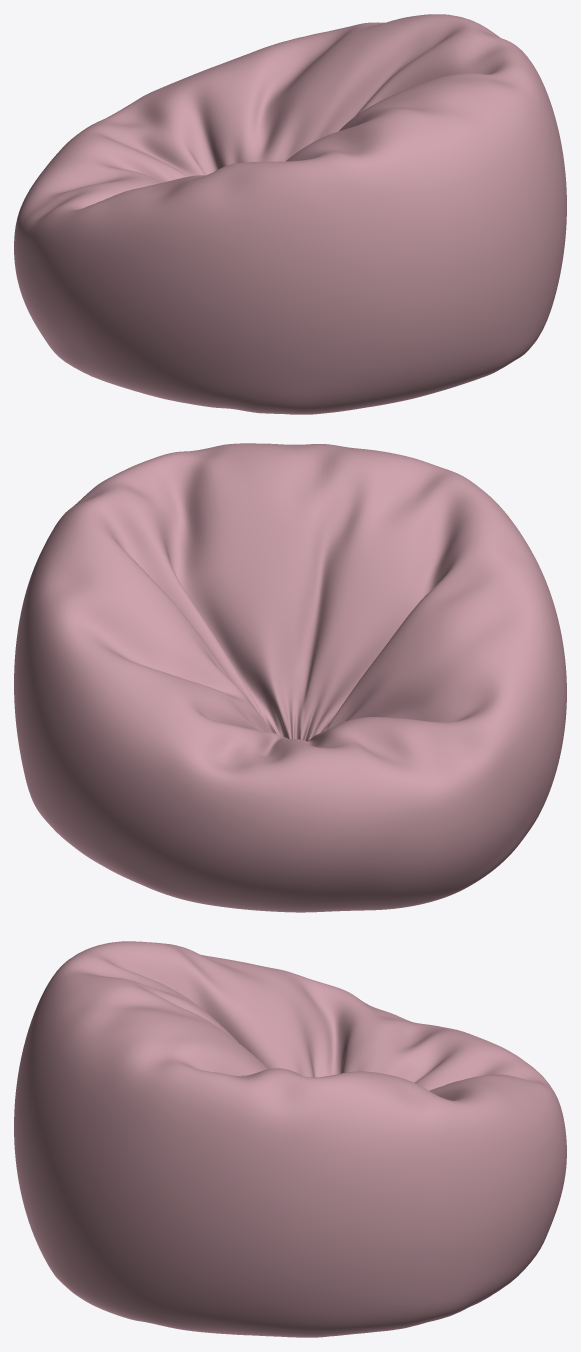
File: beanbag.fbx
3 views of the same model, one above another, from view 1: azimuth 30°, elevation 25°; view 2: azimuth 150°, elevation 25°; view 3: azimuth 270°, elevation 25° (orthographic). The views are drawn at different scales.
Visible parts, largest first — view 1: 구체; view 2: 구체; view 3: 구체.
Boxes of the visible parts, left/top/right/bottom form: 구체: left=14, top=14, right=566, bottom=414; 구체: left=14, top=443, right=566, bottom=912; 구체: left=14, top=941, right=566, bottom=1337.
Size of the model in its own units: 2.06 by 1.2 by 2.05.
